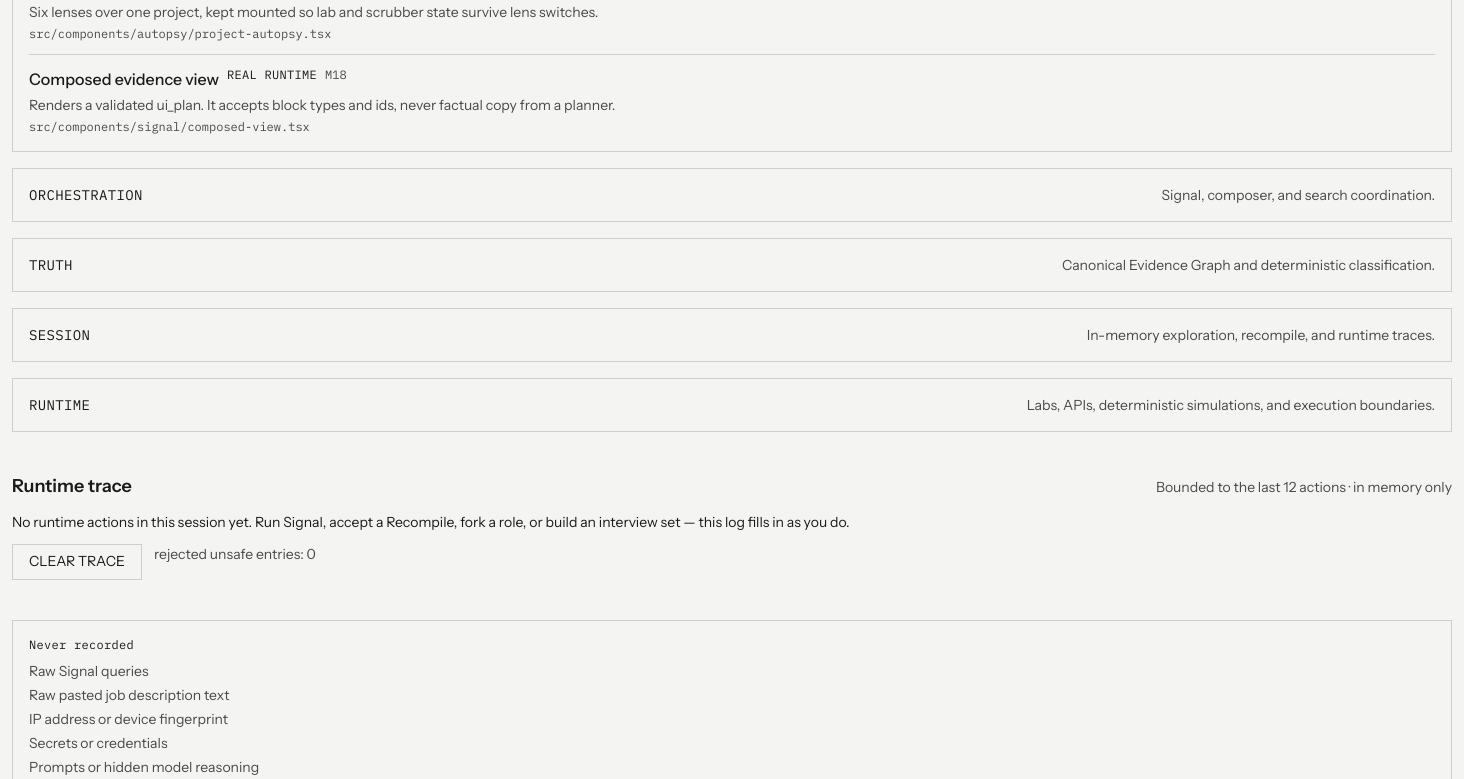
UnderTheSurface (M22) › labels labs as portfolio simulation, never real runtime
(page scrolled)
Click the button that starts with "RUNTIME".
click(60, 405)  # box [29,395,1435,415]
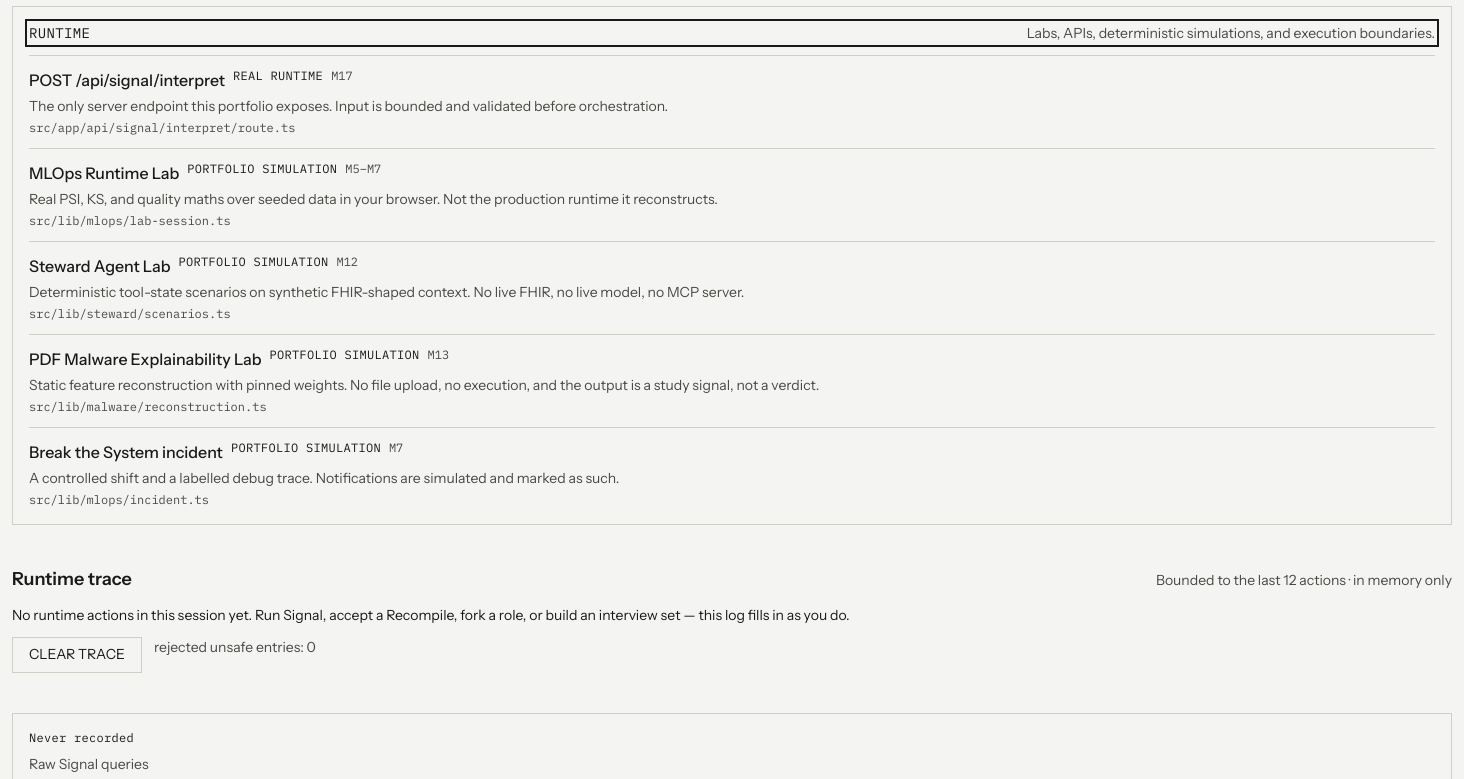
Now the text "PORTFOLIO SIMULATION" next to "MLOps Runtime Lab" is shown, box [187,161,337,176]
